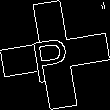P_N: (33, 27, 77, 83)
